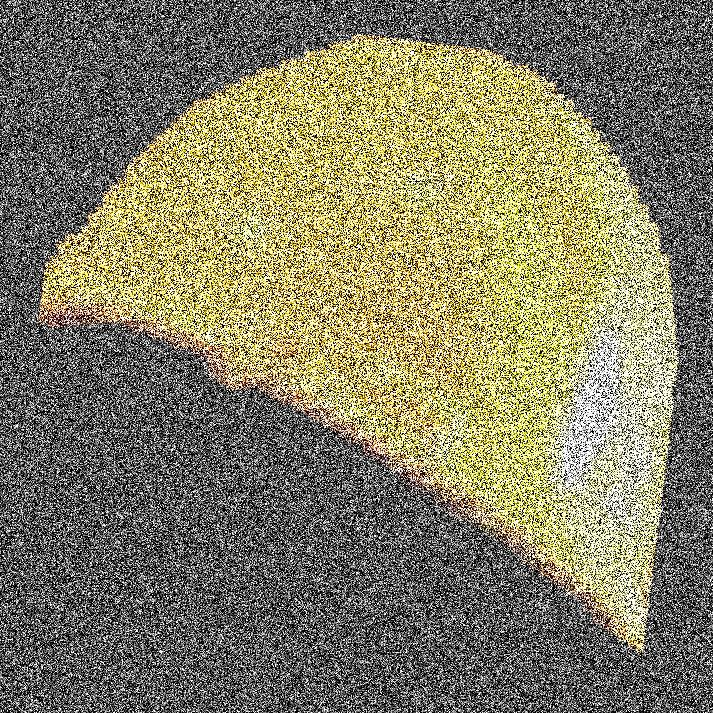Capacete: (428, 0, 642, 712)
